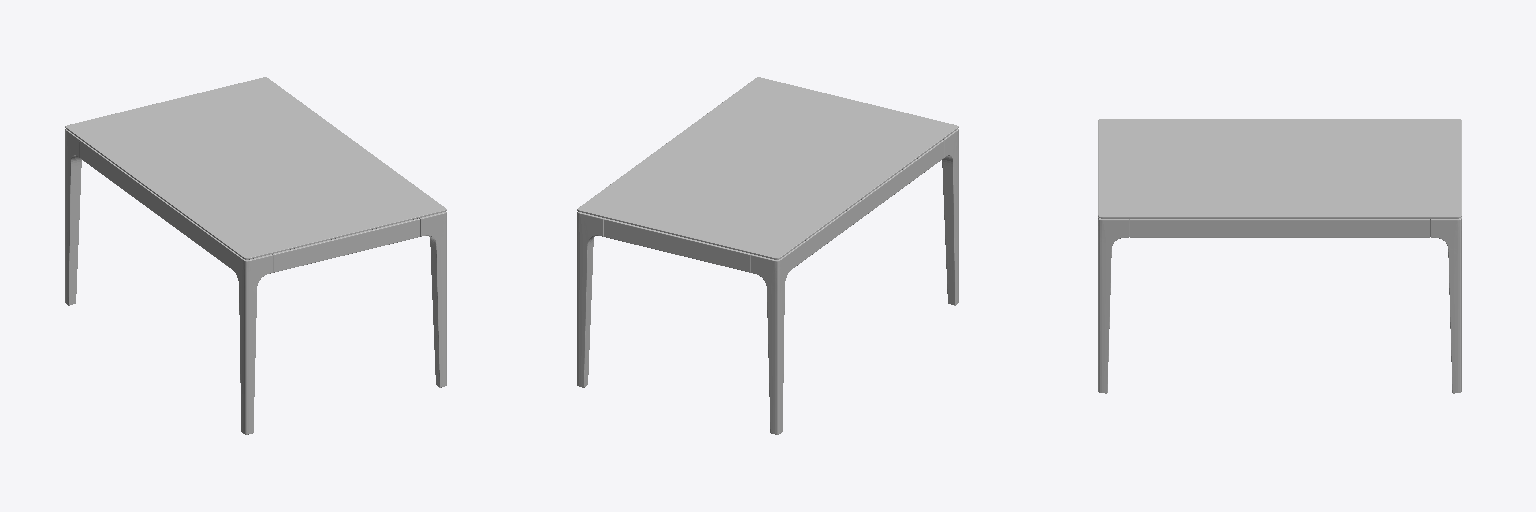
File: DiningTable.obj
3 views of the same model, side by side, from view 1: azimuth 30°, elevation 25°; view 2: azimuth 150°, elevation 25°; view 3: azimuth 270°, elevation 25° (orthographic).
Parts seen in each view (by area): view 1: SM_Esstisch_23; view 2: SM_Esstisch_23; view 3: SM_Esstisch_23.
Boxes of the visible parts, x1=… form: SM_Esstisch_23: x1=65, y1=77, x2=446, y2=434; SM_Esstisch_23: x1=577, y1=77, x2=958, y2=434; SM_Esstisch_23: x1=1098, y1=119, x2=1461, y2=393.
Size of the model in its own units: 90 by 75.03 by 140.